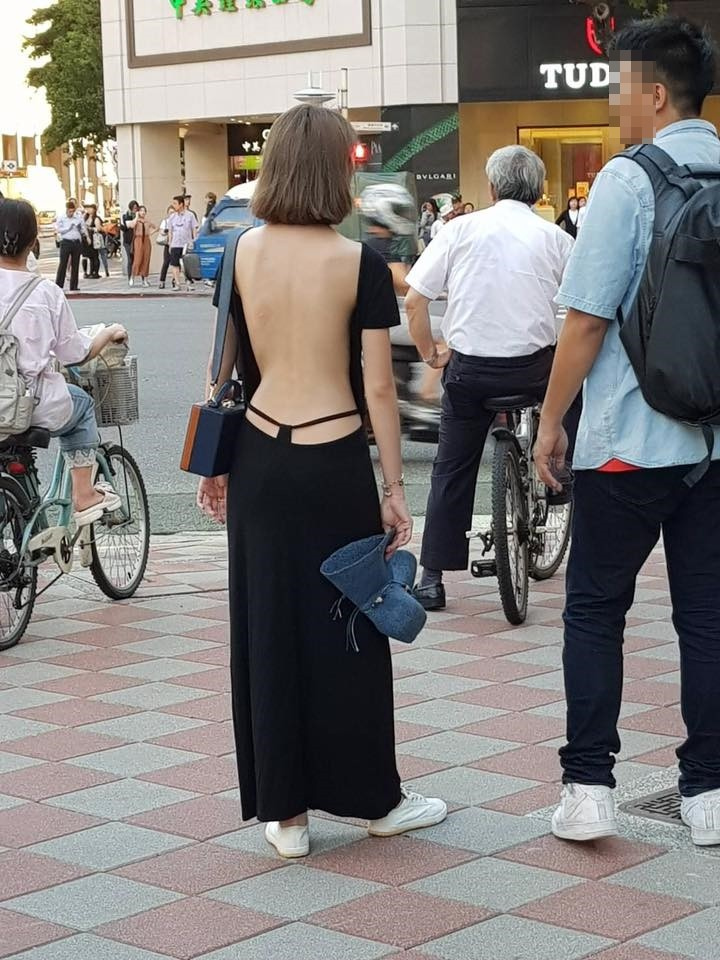people: (198, 103, 415, 860), (530, 21, 720, 850), (406, 143, 577, 615), (1, 200, 127, 548), (350, 184, 445, 437), (53, 203, 83, 292), (169, 198, 195, 283), (82, 204, 110, 281), (118, 201, 142, 283), (130, 207, 153, 287), (157, 206, 179, 286), (444, 195, 463, 263), (559, 195, 577, 251), (576, 193, 592, 256), (201, 190, 219, 237)
